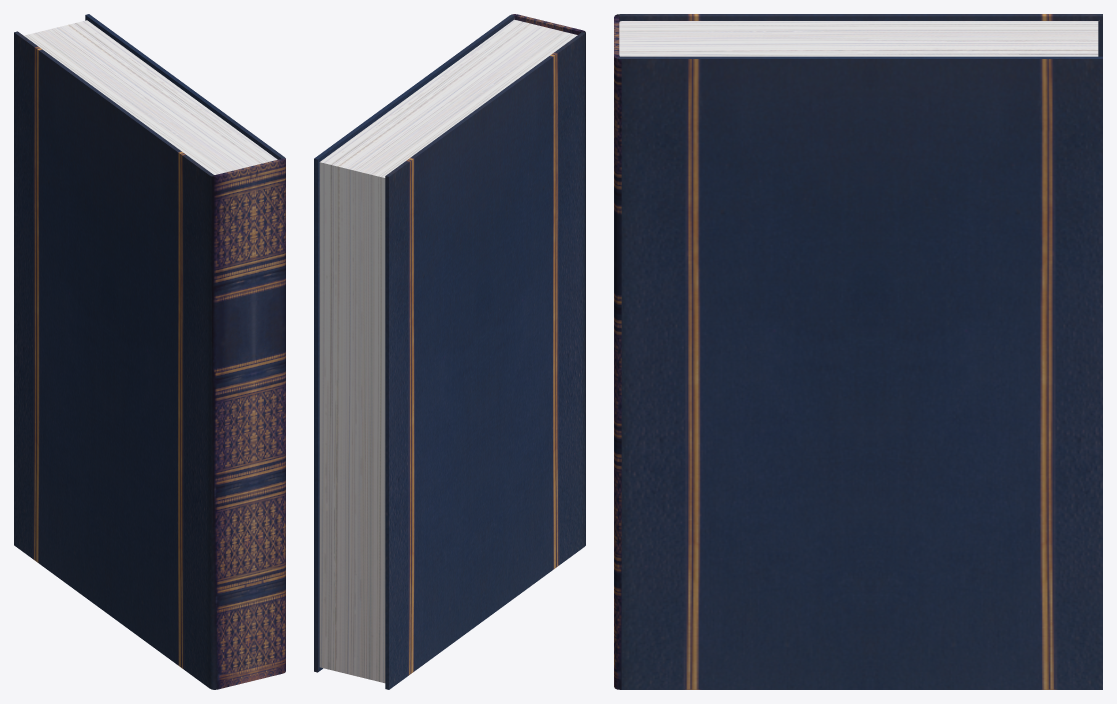
Rendered from RetroBooks01_1_1x.FBX.
3 views of the same model, side by side, from view 1: azimuth 30°, elevation 25°; view 2: azimuth 150°, elevation 25°; view 3: azimuth 270°, elevation 25° (orthographic). The views are drawn at different scales.
Visible parts, largest first — view 1: RetroBooks01_1_1x; view 2: RetroBooks01_1_1x; view 3: RetroBooks01_1_1x.
Boxes of the visible parts, x1,y1,x2,y2 form: RetroBooks01_1_1x: [14, 14, 285, 689]; RetroBooks01_1_1x: [314, 14, 585, 689]; RetroBooks01_1_1x: [614, 14, 1102, 689].
Bounding box in the file's own units: 0.3459 × 2.26 × 1.59.
